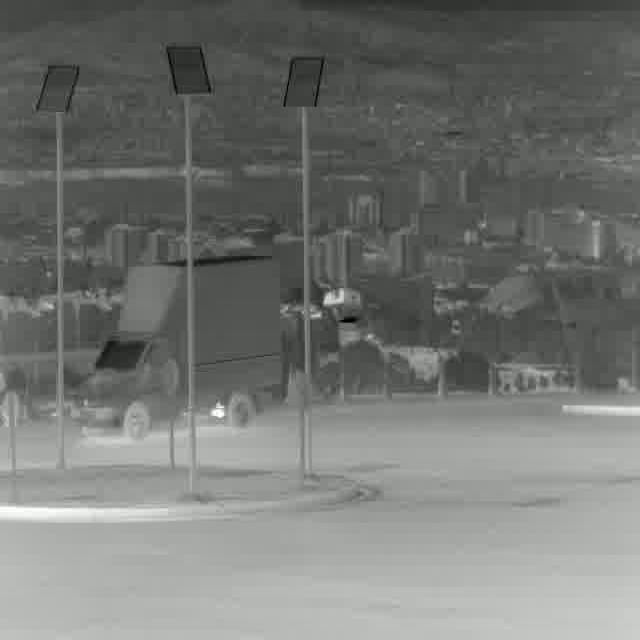Car: (80, 257, 280, 431)
